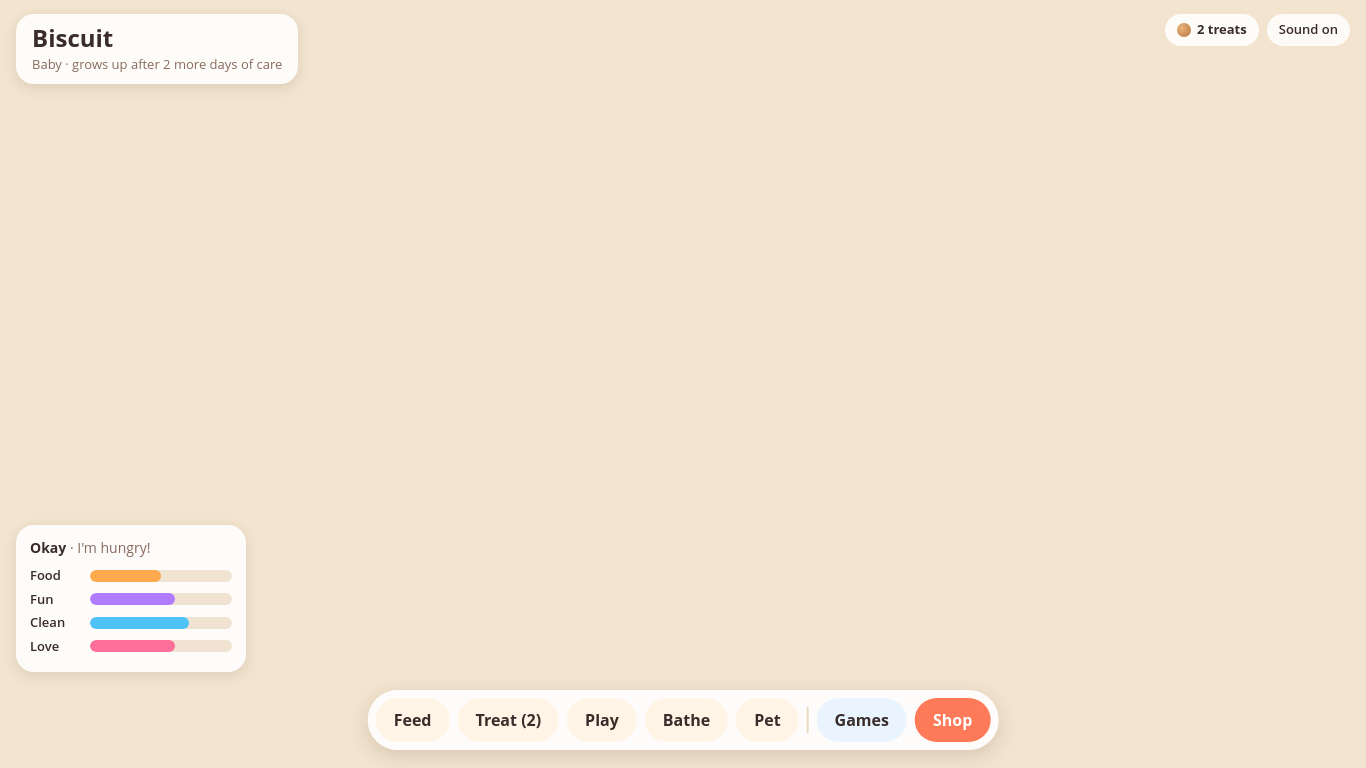
try on an outfit, then buy and wear it
This screenshot has width=1366, height=768.
Click the button "Shop".
click(953, 720)  # box x1=915 y1=698 x2=990 y2=742
(page scrolled)
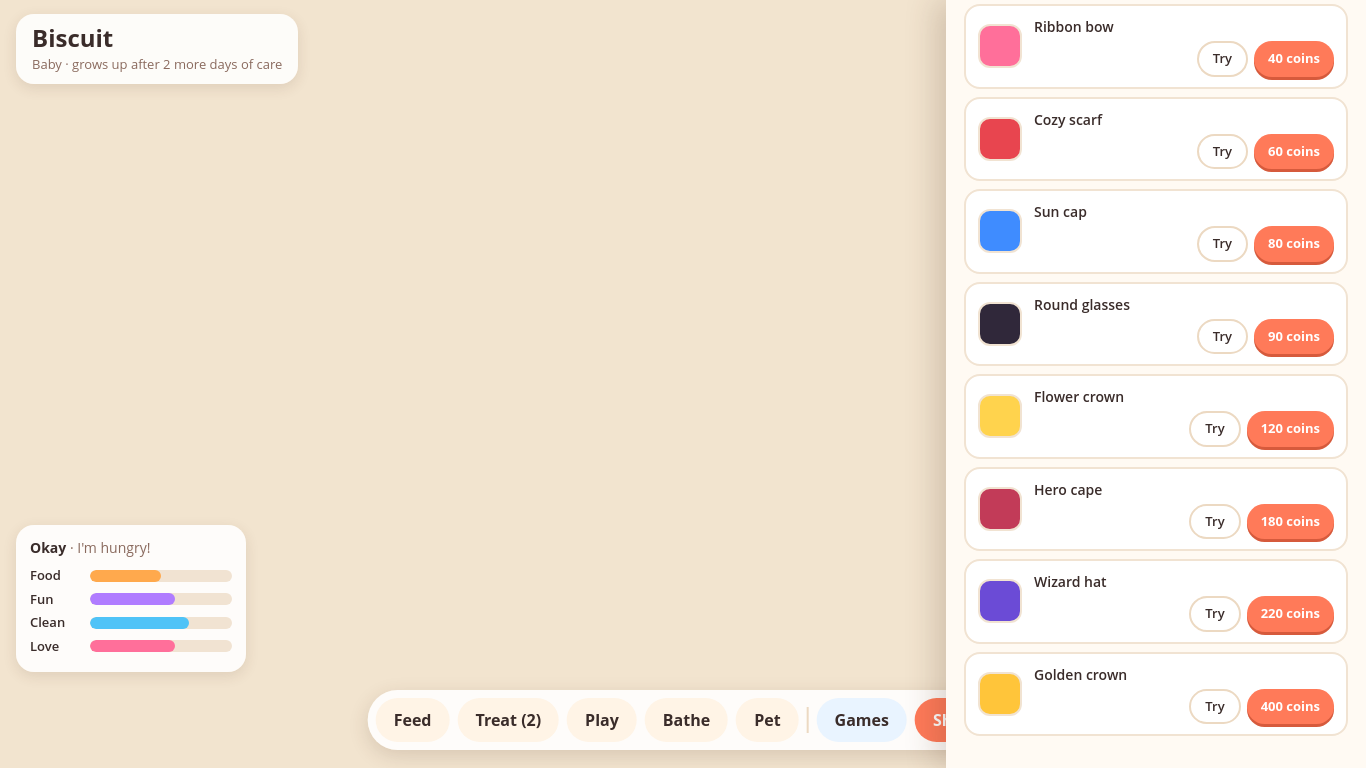
Click the button "Try" below "Golden crown".
click(1215, 706)  # box x1=1189 y1=688 x2=1241 y2=724
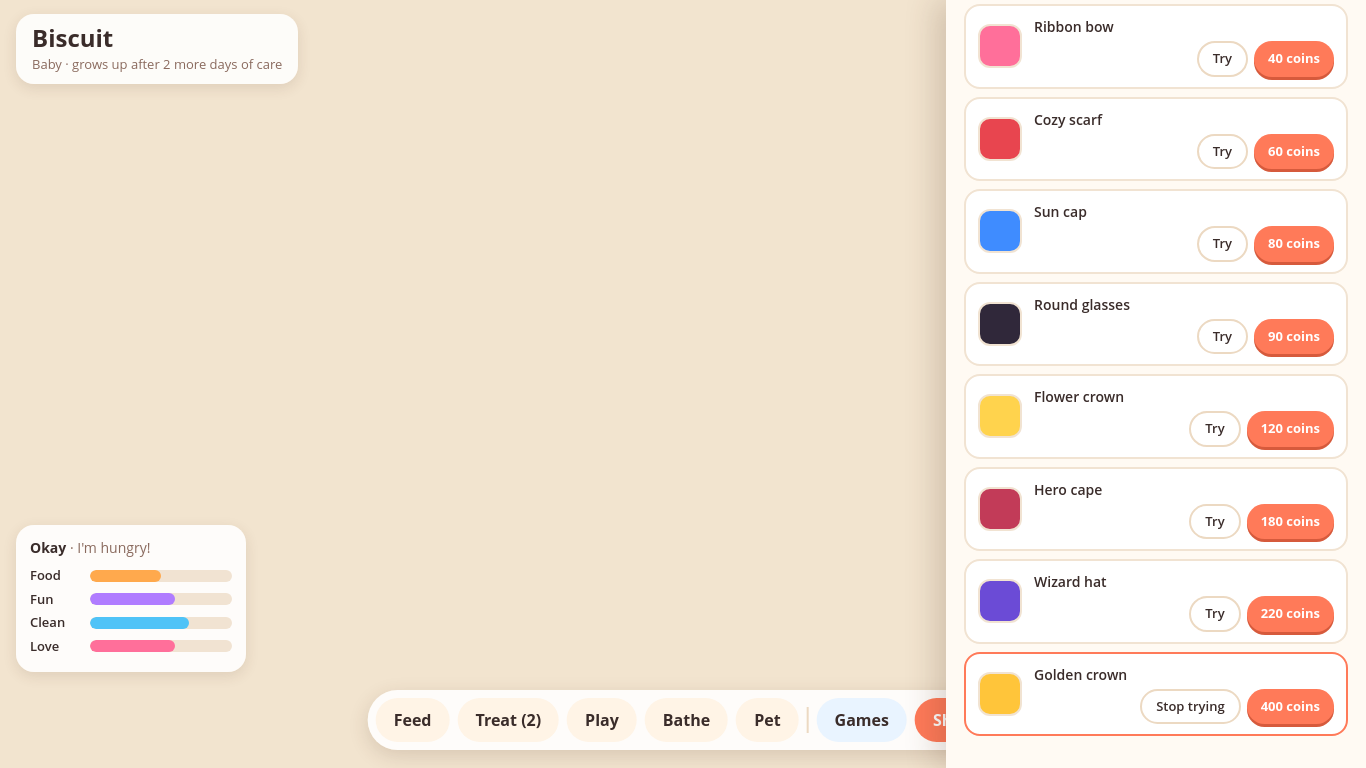
Expected: the list item "Golden crown" has class "trying", x1=964 y1=652 x2=1348 y2=736
Click the button "400 coins".
click(1290, 706)  # box x1=1247 y1=688 x2=1334 y2=724
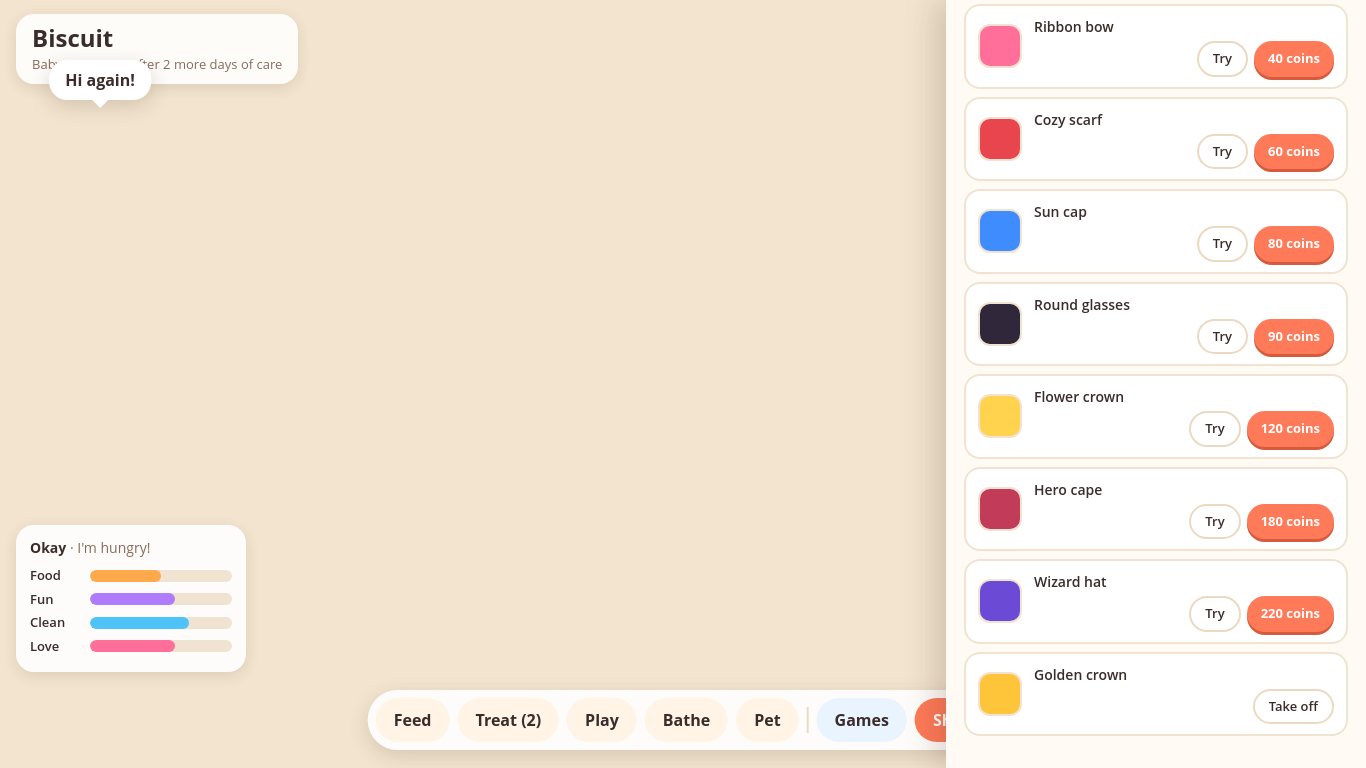
Expected: the button "Take off" is shown, x1=1253 y1=688 x2=1334 y2=724
